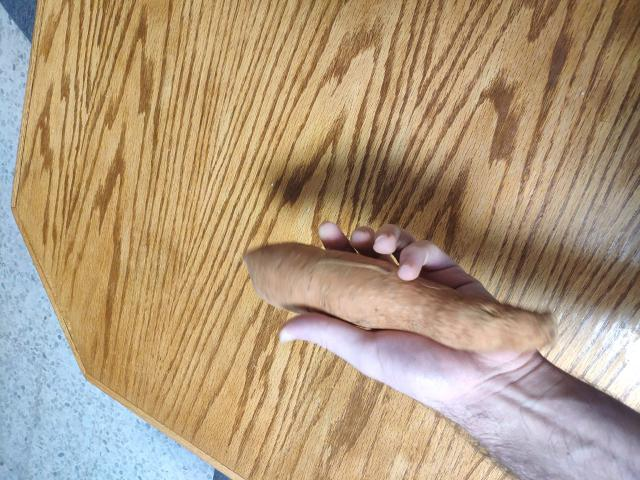sweet_potato: (236, 240, 547, 355)
